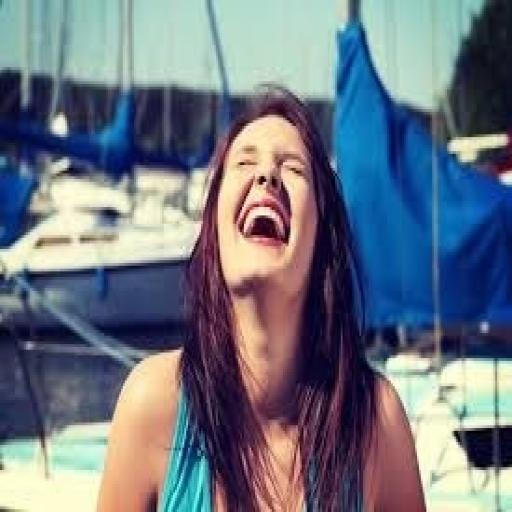laughing: (91, 76, 430, 509)
